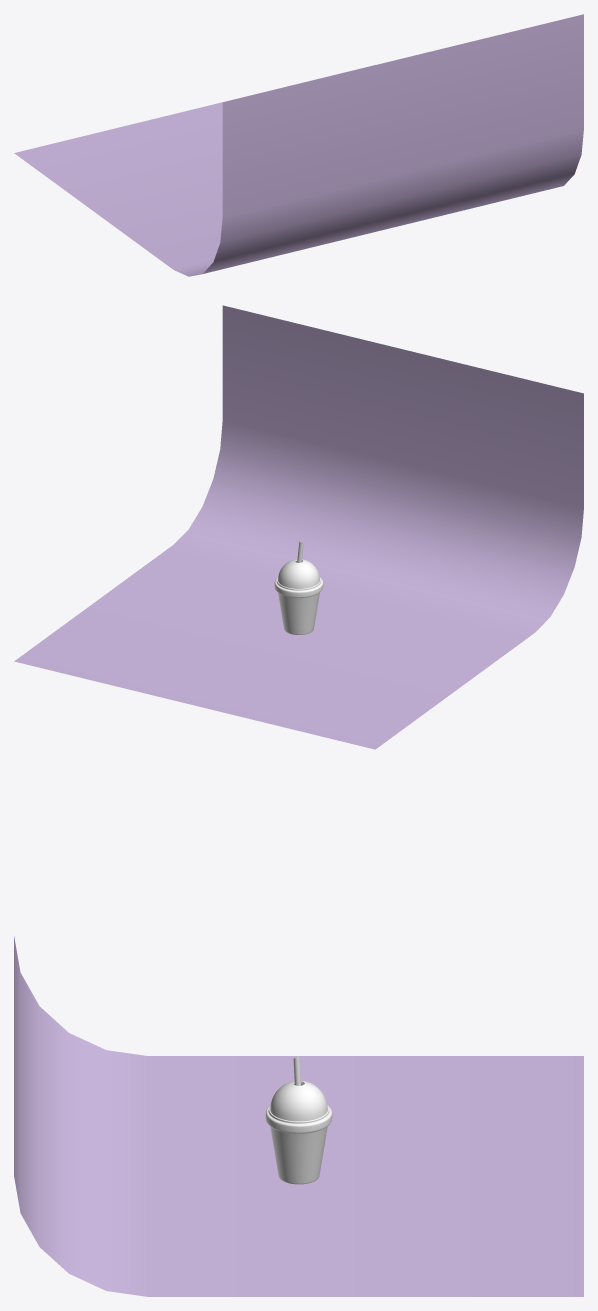
The model's file is cup-of-drink.glb.
3 views of the same model, one above another, from view 1: azimuth 30°, elevation 25°; view 2: azimuth 150°, elevation 25°; view 3: azimuth 270°, elevation 25° (orthographic). The views are drawn at different scales.
Parts seen in each view (by area): view 1: BG; view 2: BG, Cup, Cap; view 3: BG, Cup, Cap.
Part boxes in pixels (left/top/right/bottom): BG: left=14, top=14, right=583, bottom=276; BG: left=14, top=305, right=583, bottom=749; Cup: left=274, top=577, right=323, bottom=634; Cap: left=278, top=559, right=319, bottom=588; BG: left=14, top=936, right=583, bottom=1296; Cup: left=265, top=1105, right=332, bottom=1184; Cap: left=270, top=1080, right=327, bottom=1121.
Size of the model in its own units: 27.68 by 14.89 by 27.68.
